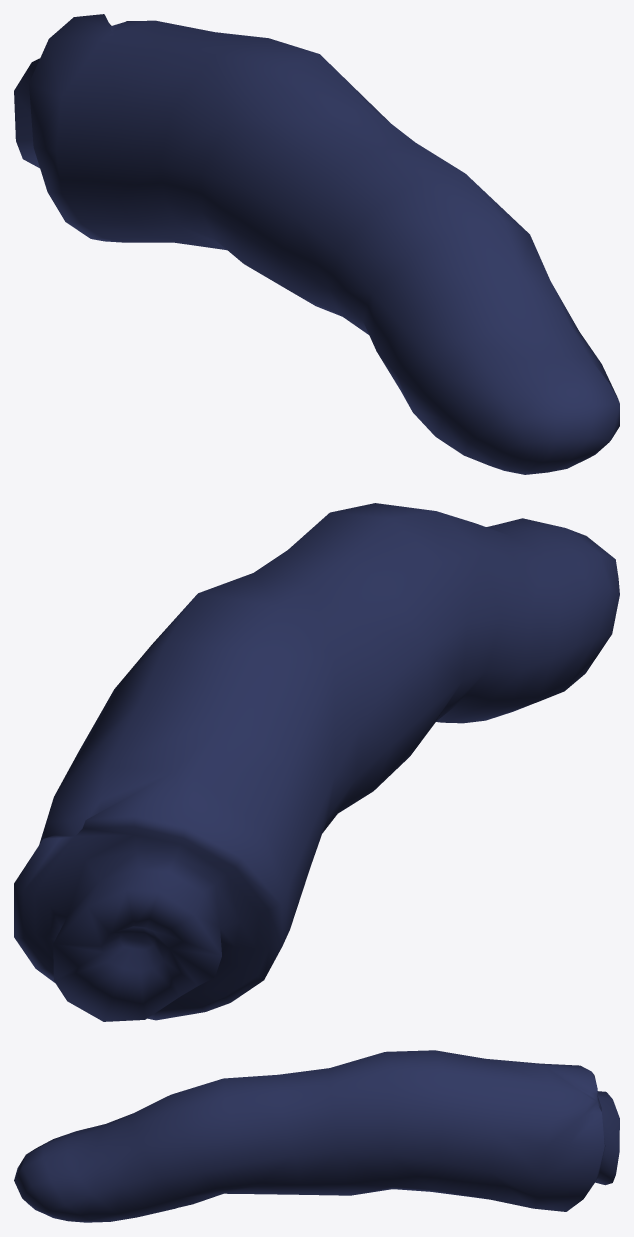
Rendered from RingFinger.FBX.
3 views of the same model, one above another, from view 1: azimuth 30°, elevation 25°; view 2: azimuth 150°, elevation 25°; view 3: azimuth 270°, elevation 25° (orthographic). The views are drawn at different scales.
Parts seen in each view (by area): view 1: RingFinger; view 2: RingFinger; view 3: RingFinger.
Boxes of the visible parts, bbox=[...] form: RingFinger: bbox=[14, 14, 619, 474]; RingFinger: bbox=[14, 503, 619, 1021]; RingFinger: bbox=[14, 1050, 619, 1222].
Size of the model in its own units: 2.93 by 2.87 by 9.66.
